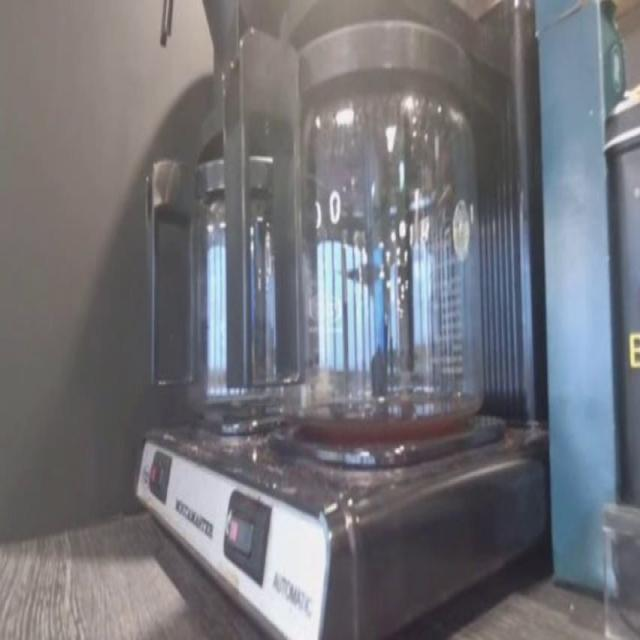nocoffee: (290, 116, 485, 417), (187, 212, 269, 416)
